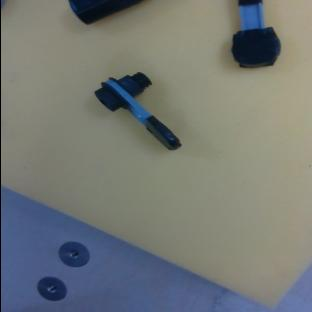part_1_bad: (91, 57, 201, 157)
part_2_bad: (68, 0, 143, 24)
